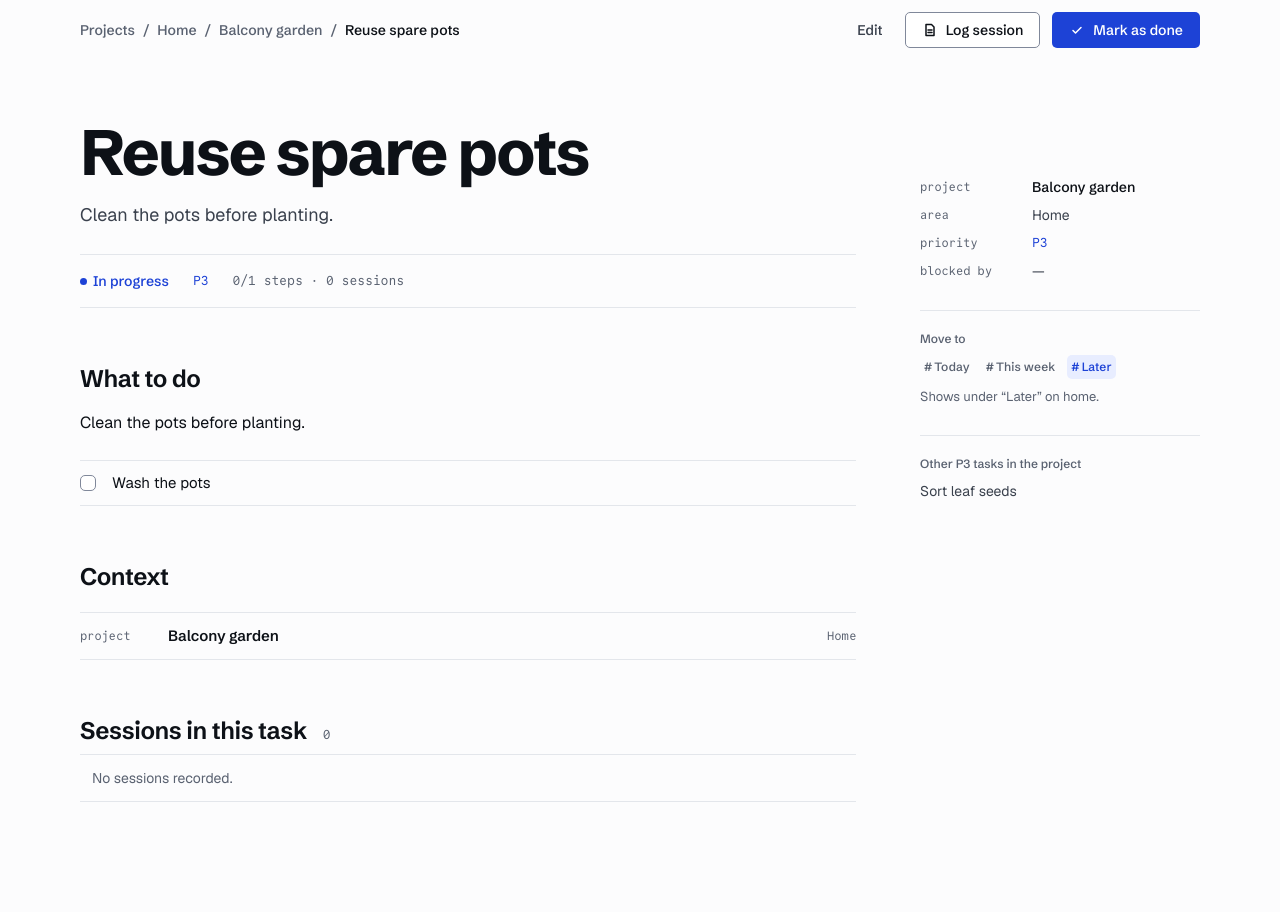
it: task view writing to its source › shows the task the source answered with, not the one it was sent
This screenshot has width=1280, height=912.
Click the button with class "ghost". click: [870, 30]
box: [847,14,893,46]
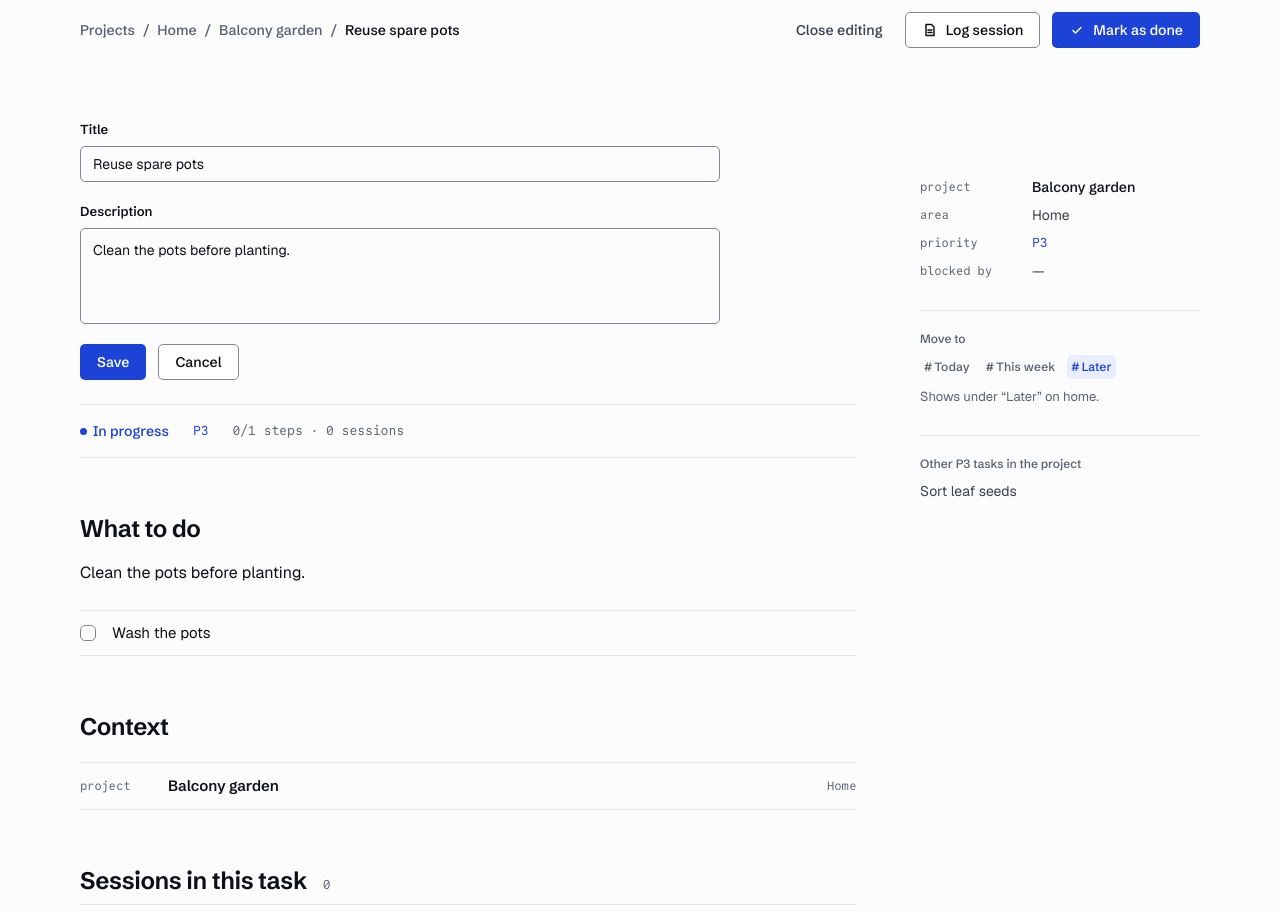
Replace the text in the field with class "nt-input" showing "Title" with "The title I typed". click: [400, 164]
box: [80,146,720,182]
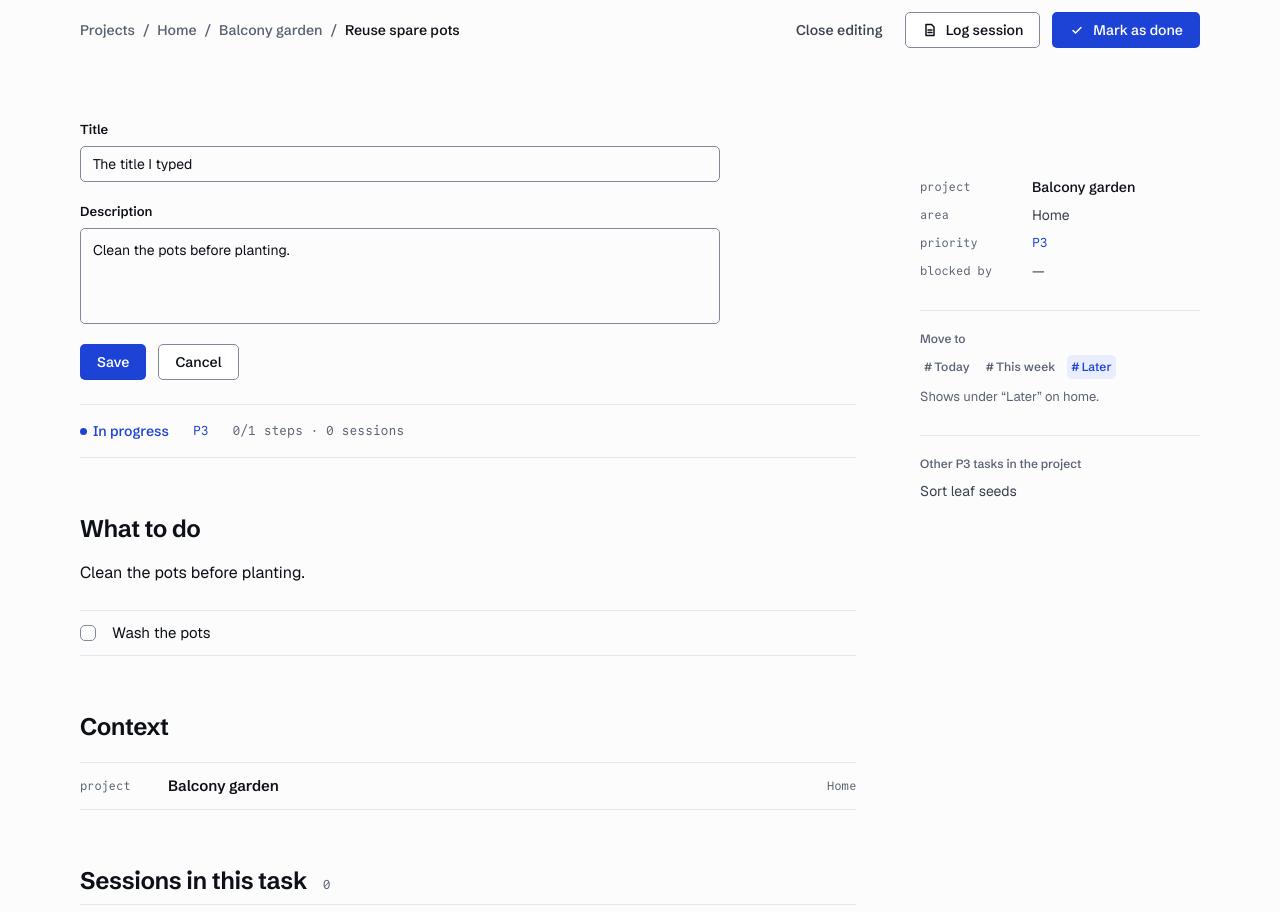
Replace the text in the text box with class "nt-input" showing "Description" with "Clean and label the pots.". click: [400, 276]
box: [80,228,720,324]
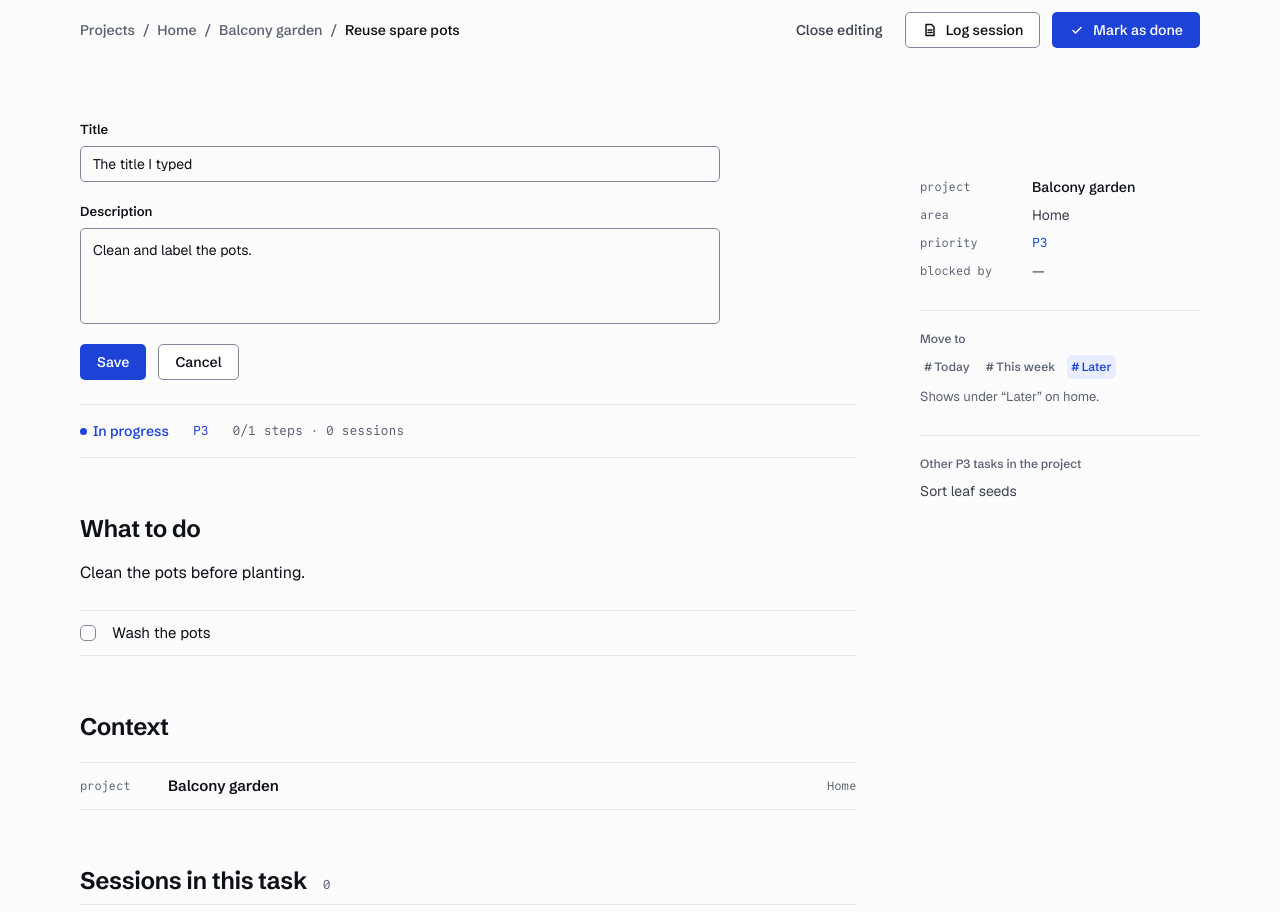
Click the button "Save". click: [113, 362]
box: [80,344,146,380]
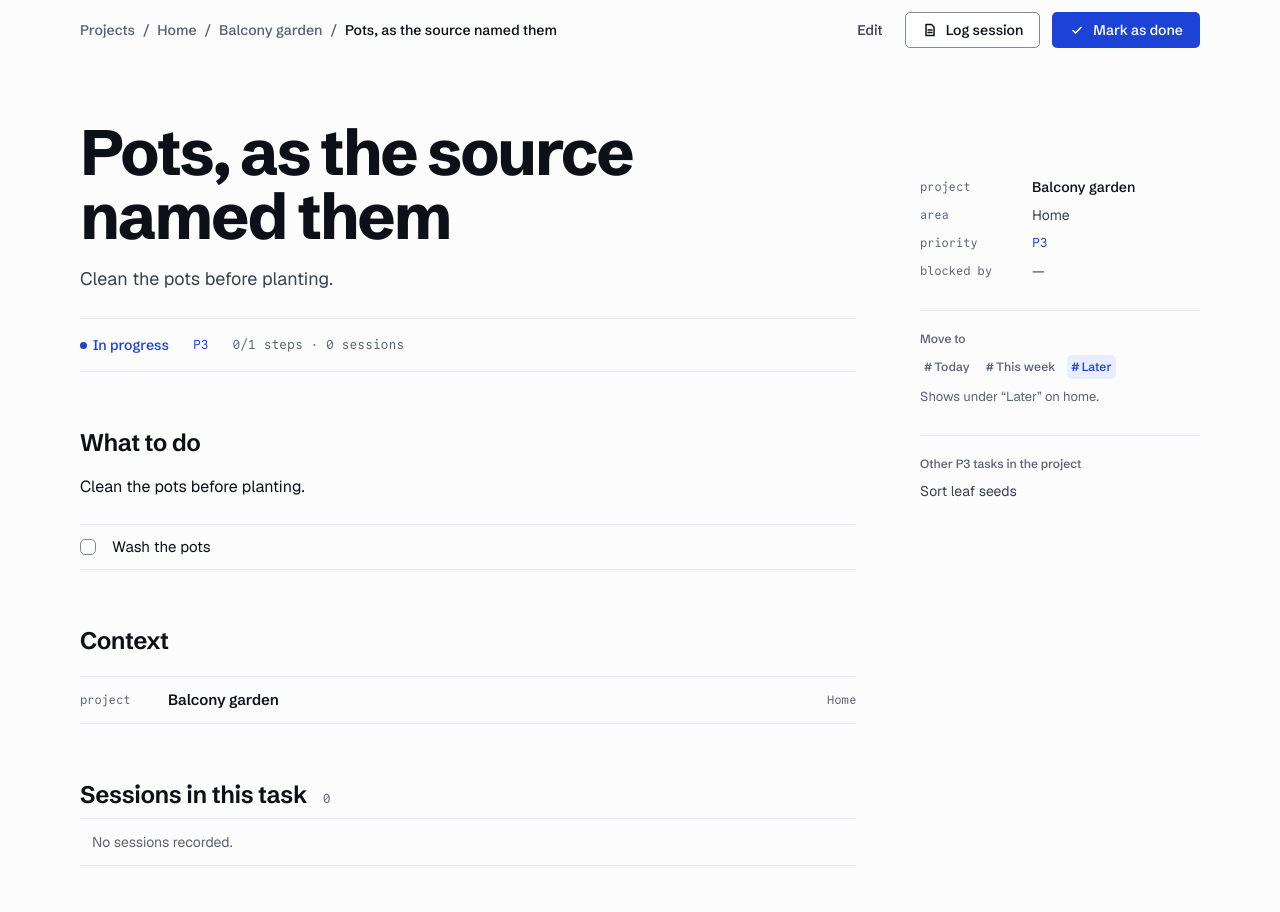
Now the heading "Pots, as the source named them" reads "Pots, as the source named them", box [80,112,632,256]
